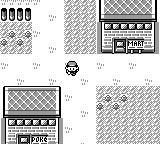main: (65, 61, 80, 76)
no-caminable: (3, 86, 59, 143), (99, 0, 157, 54), (0, 8, 31, 21)
puerta: (114, 39, 126, 53), (18, 135, 30, 143)
